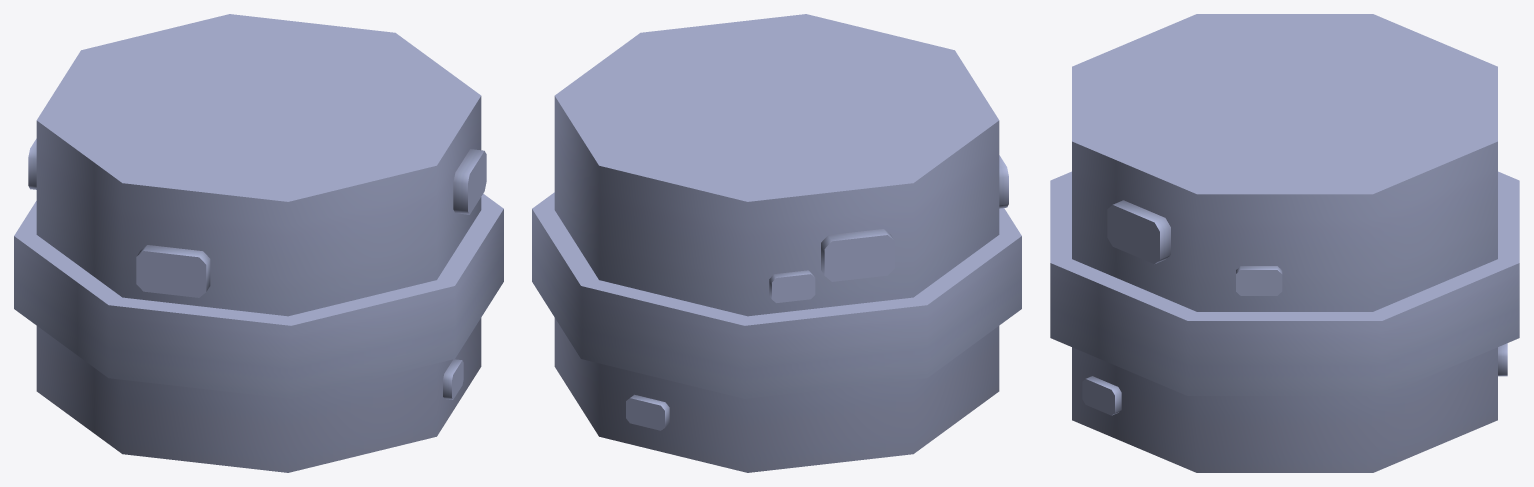
Rendered from tower-middle.glb.
The picture shows the model from 3 angles, left to right: view 1: azimuth 30°, elevation 25°; view 2: azimuth 150°, elevation 25°; view 3: azimuth 270°, elevation 25°; orthographic projection. The views are drawn at different scales.
Parts seen in each view (by area): view 1: tower-middle; view 2: tower-middle; view 3: tower-middle.
Boxes of the visible parts, bbox=[...] form: tower-middle: bbox=[14, 14, 503, 472]; tower-middle: bbox=[532, 14, 1021, 472]; tower-middle: bbox=[1050, 14, 1519, 472].
Size of the model in its own units: 3.05 by 2 by 3.05.
Materials: 1 (1 with a texture image).
